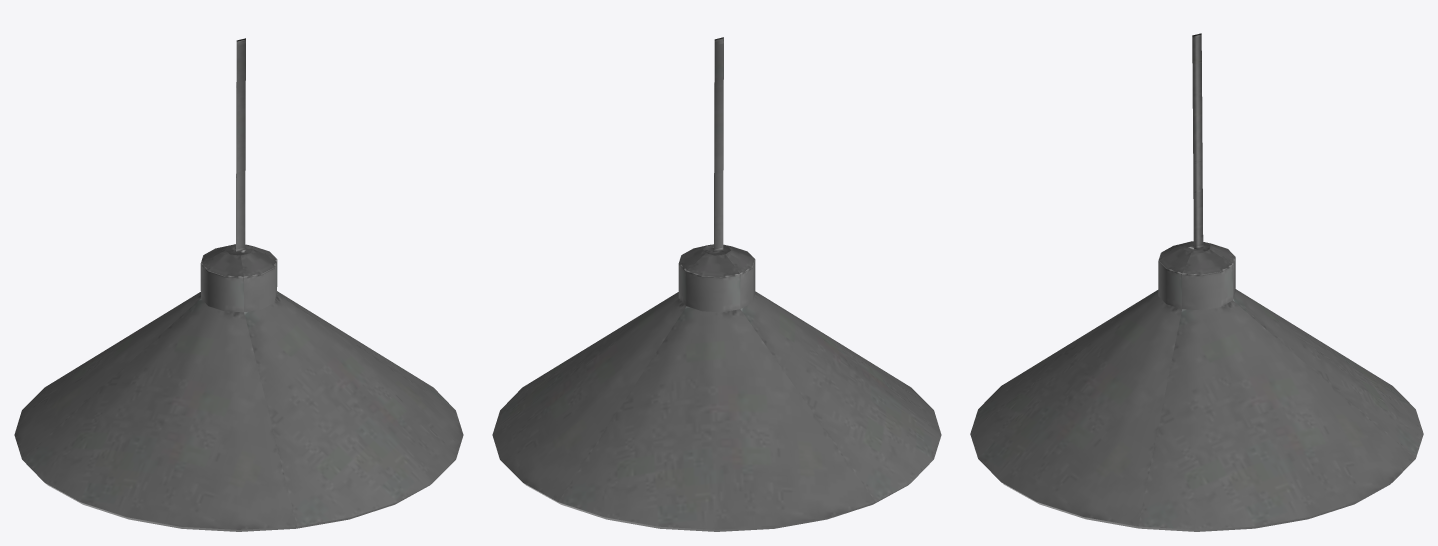
3 views of the same model, side by side, from view 1: azimuth 30°, elevation 25°; view 2: azimuth 150°, elevation 25°; view 3: azimuth 270°, elevation 25° (orthographic).
Visible parts, largest first — view 1: body0_model0_lod0_mesh0; view 2: body0_model0_lod0_mesh0; view 3: body0_model0_lod0_mesh0.
Part boxes in pixels (x1,y1,x2,y2): body0_model0_lod0_mesh0: (14, 38, 463, 531); body0_model0_lod0_mesh0: (492, 37, 941, 531); body0_model0_lod0_mesh0: (970, 33, 1423, 531).
Bounding box in the file's own units: 32 × 32 × 32.
Materials: 1 (1 with a texture image).
